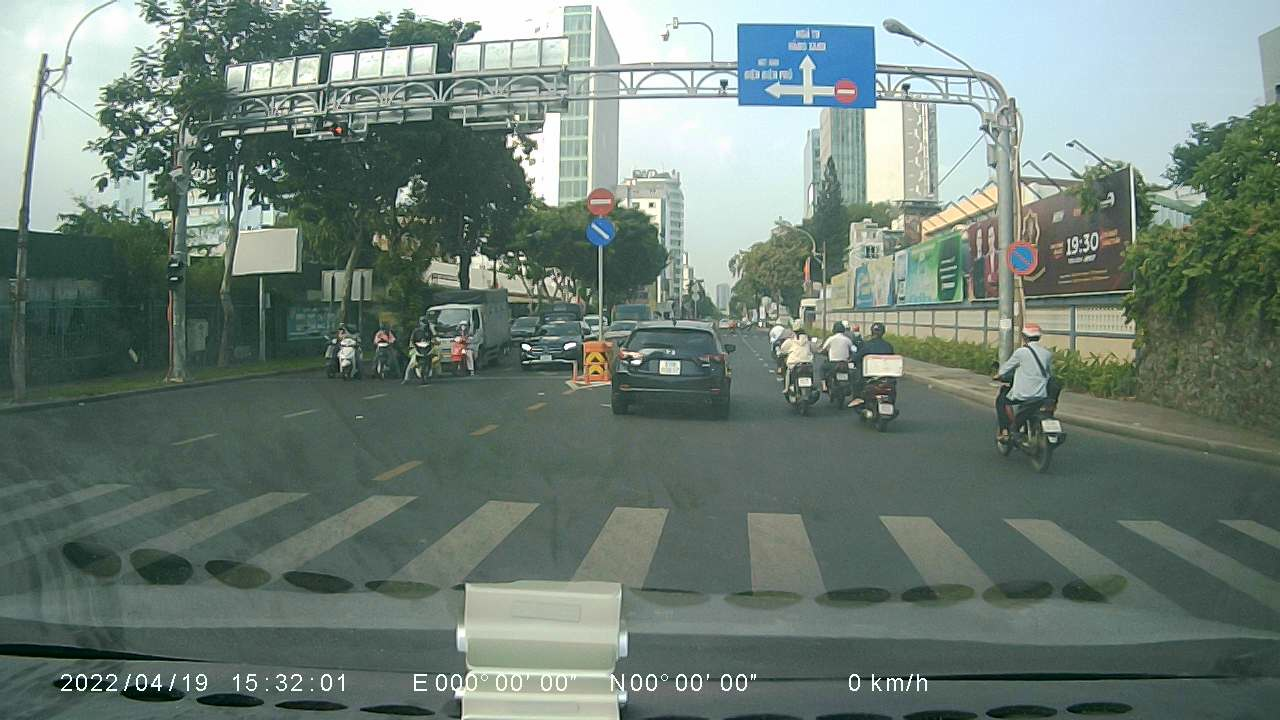Cam di nguoc chieu: (585, 184, 616, 216), (833, 72, 860, 102)
Cam do xe: (1001, 236, 1038, 276)
Huong di phai re phai: (584, 216, 619, 247)
